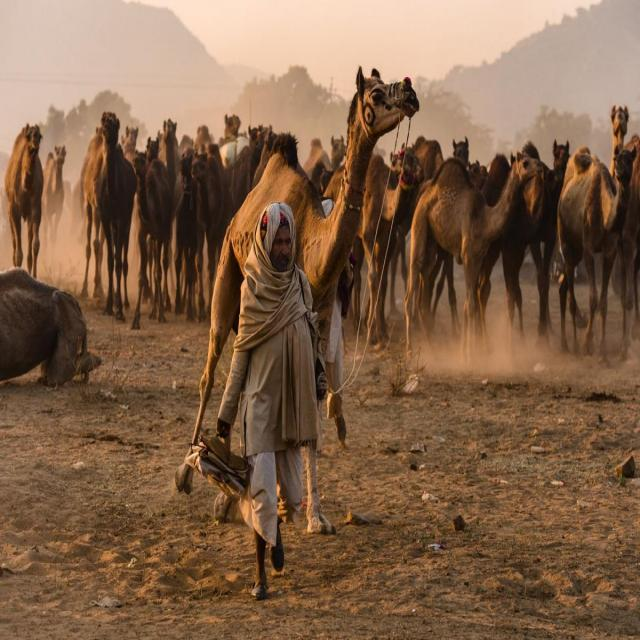person: (215, 203, 328, 600)
